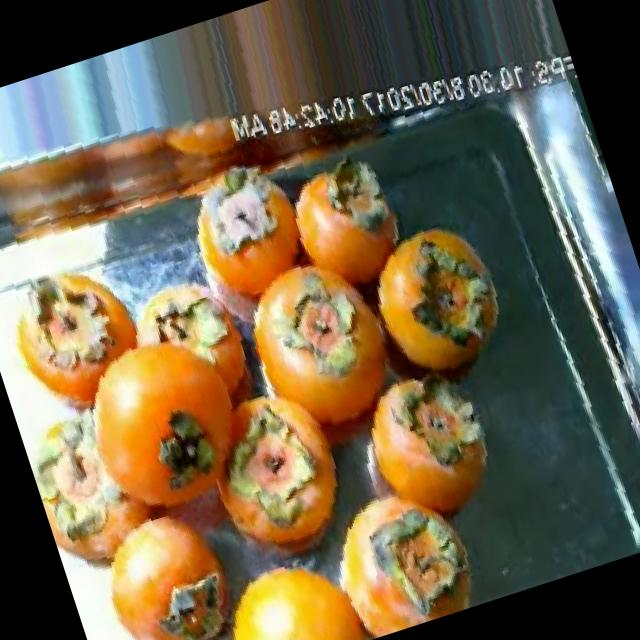Fruit: (333, 344, 520, 556), (189, 517, 390, 640)
